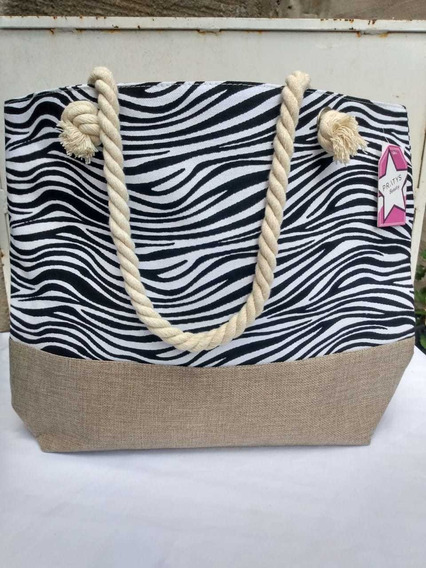cartera: (5, 64, 414, 455)
